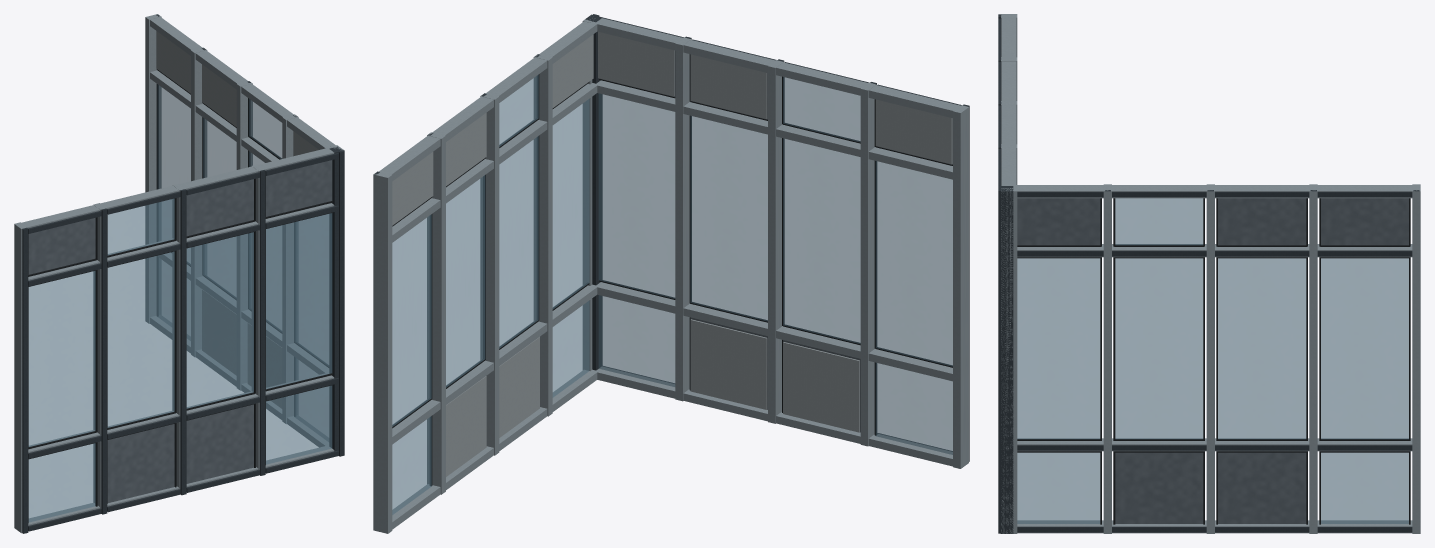
The model's file is PROJECT_Z_Office_Tower_03_Outside_Corner_4x4m_Runtime.glb.
The picture shows the model from 3 angles, left to right: view 1: azimuth 30°, elevation 25°; view 2: azimuth 150°, elevation 25°; view 3: azimuth 270°, elevation 25°; orthographic projection. The views are drawn at different scales.
Parts seen in each view (by area): view 1: SM_M03_Outside_Corner_4x4m__BATCH_MULLION_M_SatinAnodizedAlu, SM_M03_Outside_Corner_4x4m__BATCH_CAP_M_GraphitePowderAlumin, SM_M03_Outside_Corner_4x4m__BATCH_TRANSOM_M_SatinAnodizedAlu, SM_M03_Outside_Corner_4x4m__Front_GLASS_2_2, SM_M03_Outside_Corner_4x4m__Front_GLASS_2_3, SM_M03_Outside_Corner_4x4m__Front_GLASS_2_1, SM_M03_Outside_Corner_4x4m__Front_GLASS_2_4, SM_M03_Outside_Corner_4x4m__BATCH_GASKET_M_BlackEPDMSeals, SM_M03_Outside_Corner_4x4m__BATCH_BACK_PAN_M_GalvanizedHVACS, SM_M03_Outside_Corner_4x4m__Return_GLASS_2_1, SM_M03_Outside_Corner_4x4m__Front_OPAQUE_1_3, SM_M03_Outside_Corner_4x4m__Front_OPAQUE_1_2 (+13 smaller); view 2: SM_M03_Outside_Corner_4x4m__BATCH_MULLION_M_SatinAnodizedAlu, SM_M03_Outside_Corner_4x4m__BATCH_BACK_PAN_M_GalvanizedHVACS, SM_M03_Outside_Corner_4x4m__BATCH_TRANSOM_M_SatinAnodizedAlu, SM_M03_Outside_Corner_4x4m__Front_GLASS_2_3, SM_M03_Outside_Corner_4x4m__Front_GLASS_2_1, SM_M03_Outside_Corner_4x4m__Front_GLASS_2_4, SM_M03_Outside_Corner_4x4m__Front_GLASS_2_2, SM_M03_Outside_Corner_4x4m__Return_GLASS_2_4, SM_M03_Outside_Corner_4x4m__Return_GLASS_2_3, SM_M03_Outside_Corner_4x4m__Return_GLASS_2_2, SM_M03_Outside_Corner_4x4m__Return_GLASS_2_1, SM_M03_Outside_Corner_4x4m__BATCH_GASKET_M_BlackEPDMSeals (+8 smaller); view 3: SM_M03_Outside_Corner_4x4m__BATCH_MULLION_M_SatinAnodizedAlu, SM_M03_Outside_Corner_4x4m__Return_GLASS_2_3, SM_M03_Outside_Corner_4x4m__Return_GLASS_2_2, SM_M03_Outside_Corner_4x4m__Return_GLASS_2_4, SM_M03_Outside_Corner_4x4m__Return_GLASS_2_1, SM_M03_Outside_Corner_4x4m__BATCH_TRANSOM_M_SatinAnodizedAlu, SM_M03_Outside_Corner_4x4m__BATCH_CAP_M_GraphitePowderAlumin, SM_M03_Outside_Corner_4x4m__BATCH_GASKET_M_BlackEPDMSeals, SM_M03_Outside_Corner_4x4m__Return_OPAQUE_1_3, SM_M03_Outside_Corner_4x4m__Return_OPAQUE_1_2, SM_M03_Outside_Corner_4x4m__Return_GLASS_1_4, SM_M03_Outside_Corner_4x4m__Return_GLASS_1_1 (+5 smaller).
Part boxes in pixels (x1,y1,x2,y2): SM_M03_Outside_Corner_4x4m__BATCH_MULLION_M_SatinAnodizedAlu: [14, 14, 343, 533]; SM_M03_Outside_Corner_4x4m__BATCH_CAP_M_GraphitePowderAlumin: [22, 14, 344, 533]; SM_M03_Outside_Corner_4x4m__BATCH_TRANSOM_M_SatinAnodizedAlu: [21, 17, 335, 525]; SM_M03_Outside_Corner_4x4m__Front_GLASS_2_2: [107, 251, 174, 427]; SM_M03_Outside_Corner_4x4m__Front_GLASS_2_3: [186, 232, 253, 408]; SM_M03_Outside_Corner_4x4m__Front_GLASS_2_1: [28, 271, 95, 446]; SM_M03_Outside_Corner_4x4m__Front_GLASS_2_4: [266, 213, 332, 389]; SM_M03_Outside_Corner_4x4m__BATCH_GASKET_M_BlackEPDMSeals: [28, 69, 332, 522]; SM_M03_Outside_Corner_4x4m__BATCH_BACK_PAN_M_GalvanizedHVACS: [156, 31, 318, 408]; SM_M03_Outside_Corner_4x4m__Return_GLASS_2_1: [294, 214, 328, 366]; SM_M03_Outside_Corner_4x4m__Front_OPAQUE_1_3: [186, 404, 253, 483]; SM_M03_Outside_Corner_4x4m__Front_OPAQUE_1_2: [107, 424, 174, 502]; SM_M03_Outside_Corner_4x4m__BATCH_MULLION_M_SatinAnodizedAlu: [373, 18, 968, 533]; SM_M03_Outside_Corner_4x4m__BATCH_BACK_PAN_M_GalvanizedHVACS: [392, 32, 952, 476]; SM_M03_Outside_Corner_4x4m__BATCH_TRANSOM_M_SatinAnodizedAlu: [379, 18, 960, 529]; SM_M03_Outside_Corner_4x4m__Front_GLASS_2_3: [690, 116, 767, 321]; SM_M03_Outside_Corner_4x4m__Front_GLASS_2_1: [875, 161, 952, 366]; SM_M03_Outside_Corner_4x4m__Front_GLASS_2_4: [598, 93, 675, 298]; SM_M03_Outside_Corner_4x4m__Front_GLASS_2_2: [783, 138, 860, 343]; SM_M03_Outside_Corner_4x4m__Return_GLASS_2_4: [392, 214, 431, 426]; SM_M03_Outside_Corner_4x4m__Return_GLASS_2_3: [446, 175, 485, 387]; SM_M03_Outside_Corner_4x4m__Return_GLASS_2_2: [499, 136, 538, 348]; SM_M03_Outside_Corner_4x4m__Return_GLASS_2_1: [552, 99, 589, 309]; SM_M03_Outside_Corner_4x4m__BATCH_GASKET_M_BlackEPDMSeals: [392, 54, 952, 486]; SM_M03_Outside_Corner_4x4m__BATCH_MULLION_M_SatinAnodizedAlu: [1001, 14, 1420, 533]; SM_M03_Outside_Corner_4x4m__Return_GLASS_2_3: [1218, 258, 1306, 439]; SM_M03_Outside_Corner_4x4m__Return_GLASS_2_2: [1115, 258, 1203, 439]; SM_M03_Outside_Corner_4x4m__Return_GLASS_2_4: [1321, 258, 1408, 439]; SM_M03_Outside_Corner_4x4m__Return_GLASS_2_1: [1017, 258, 1100, 439]; SM_M03_Outside_Corner_4x4m__BATCH_TRANSOM_M_SatinAnodizedAlu: [1002, 17, 1412, 533]; SM_M03_Outside_Corner_4x4m__BATCH_CAP_M_GraphitePowderAlumin: [998, 14, 1419, 533]; SM_M03_Outside_Corner_4x4m__BATCH_GASKET_M_BlackEPDMSeals: [1017, 198, 1410, 524]; SM_M03_Outside_Corner_4x4m__Return_OPAQUE_1_3: [1218, 452, 1306, 523]; SM_M03_Outside_Corner_4x4m__Return_OPAQUE_1_2: [1115, 452, 1203, 523]; SM_M03_Outside_Corner_4x4m__Return_GLASS_1_4: [1321, 452, 1408, 523]; SM_M03_Outside_Corner_4x4m__Return_GLASS_1_1: [1017, 452, 1100, 523].
Size of the model in its own units: 4 by 3.6 by 4.02.
6 materials, 6 textured.
